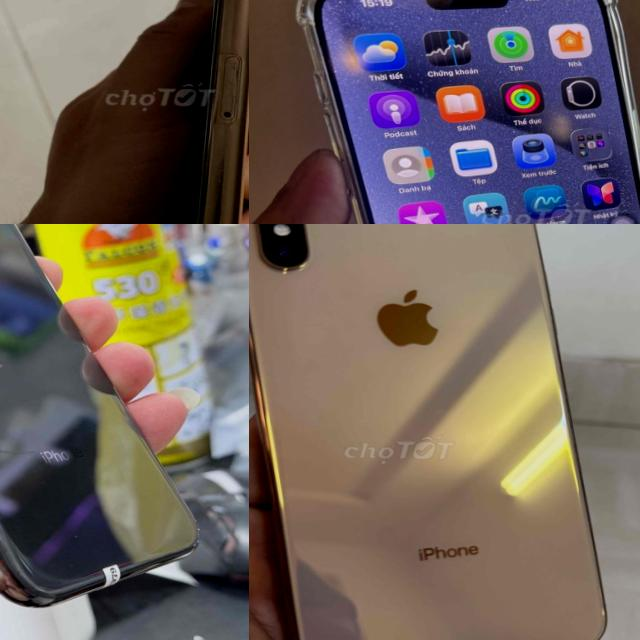scratch: (50, 524, 90, 555), (30, 476, 60, 498)
